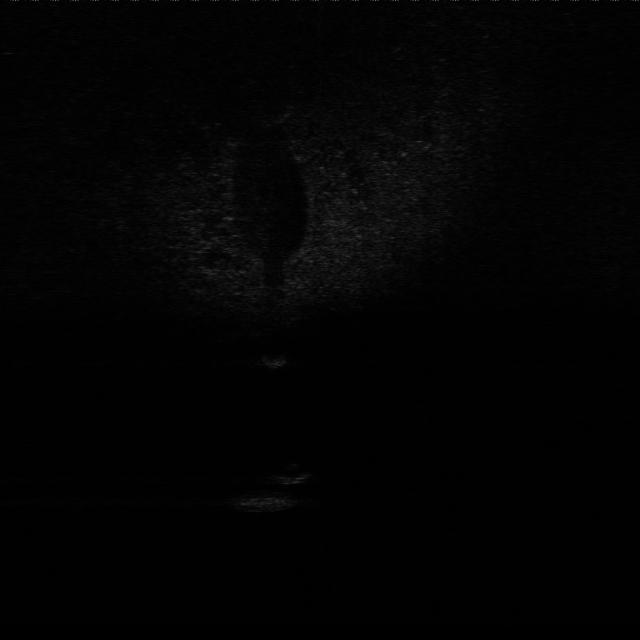ball: (274, 458, 314, 486)
circle cage: (230, 488, 300, 520)
cube: (263, 344, 293, 369)
